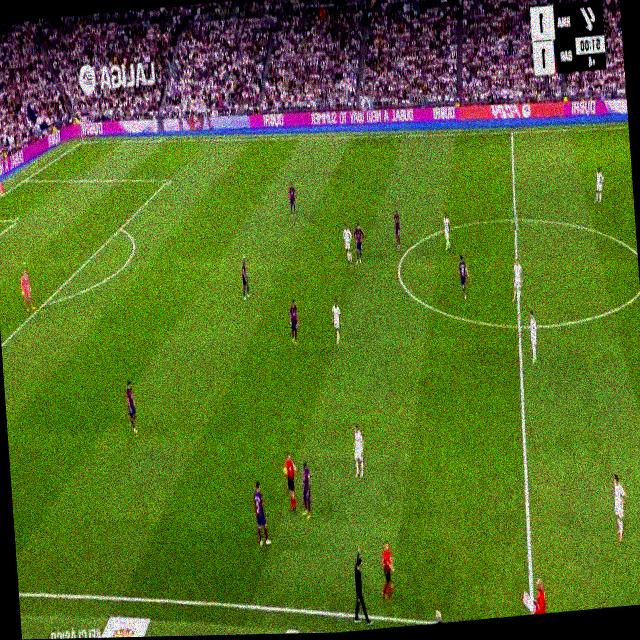bigarea_top_inner: (164, 173, 171, 187)
bottom_arc_area_intersection: (40, 293, 50, 311)
corner: (78, 136, 85, 144)
halfcircle_bottom: (512, 312, 524, 338)
halfcircle_top: (508, 206, 522, 230)
midline_top_intersection: (508, 125, 514, 139)
smallarea_top_inner: (16, 216, 20, 224)
top_arc_area_intersection: (116, 220, 124, 234)
